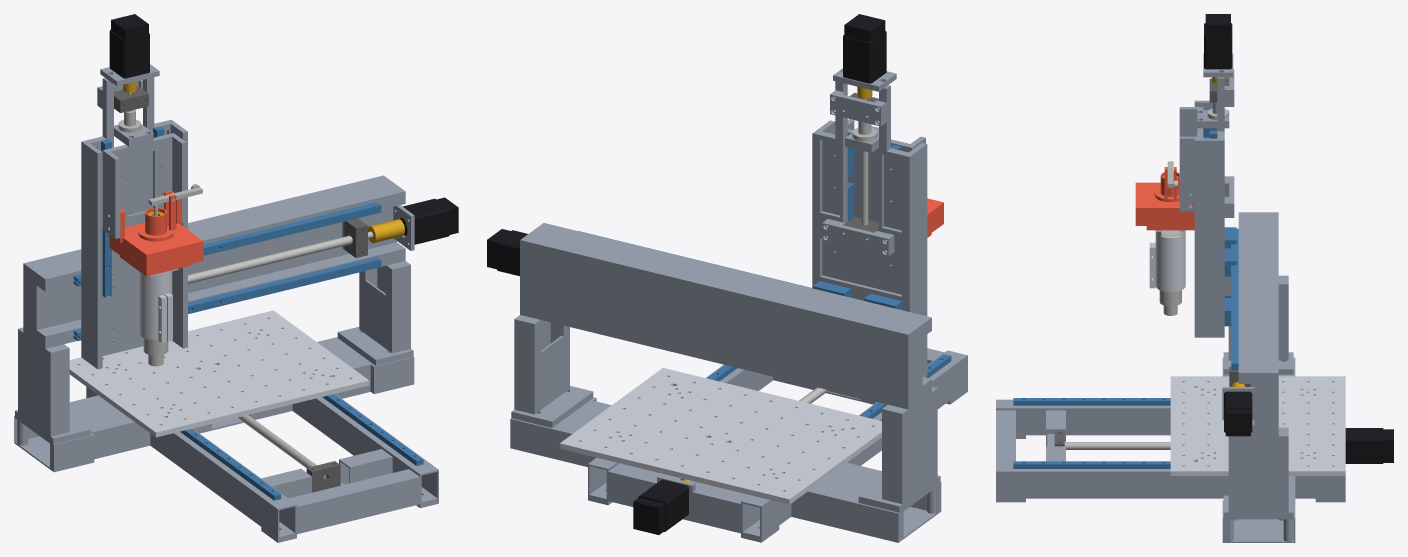
Rendered from standard_home.glb.
3 views of the same model, side by side, from view 1: azimuth 30°, elevation 25°; view 2: azimuth 150°, elevation 25°; view 3: azimuth 270°, elevation 25° (orthographic). The views are drawn at different scales.
Visible parts, largest first — view 1: table, beam, x_carriage, frame_cross_rear, z_slide, upright_R, frame_longeron_L, upright_L, frame_cross_front, frame_longeron_R, tooldock_master, x_rail_bot (+17 smaller); view 2: beam, table, x_carriage, frame_cross_rear, upright_R, upright_L, frame_cross_end, frame_longeron_L, z_motor, y_motor, frame_longeron_R, z_slide (+5 smaller); view 3: table, beam, frame_longeron_R, x_carriage, upright_R, frame_longeron_L, frame_cross_rear, head_mount, z_slide, tooldock_master, y_motor, z_motor (+9 smaller).
Part boxes in pixels (<box>): table: <box>69,310,369,437</box>; beam: <box>23,175,414,348</box>; x_carriage: <box>81,77,187,369</box>; frame_cross_rear: <box>14,337,414,472</box>; z_slide: <box>102,133,186,238</box>; upright_R: <box>337,261,413,365</box>; frame_longeron_L: <box>86,387,296,542</box>; upright_L: <box>15,327,91,444</box>; frame_cross_front: <box>288,469,419,534</box>; frame_longeron_R: <box>292,394,438,508</box>; tooldock_master: <box>109,191,203,274</box>; x_rail_bot: <box>73,257,381,340</box>; beam: <box>520,223,931,409</box>; table: <box>559,368,881,504</box>; x_carriage: <box>812,81,927,377</box>; frame_cross_rear: <box>510,397,941,542</box>; upright_R: <box>511,315,593,427</box>; upright_L: <box>858,386,940,512</box>; frame_cross_end: <box>608,463,749,533</box>; frame_longeron_L: <box>741,350,967,542</box>; z_motor: <box>843,14,886,83</box>; y_motor: <box>633,479,688,534</box>; frame_longeron_R: <box>588,364,773,505</box>; z_slide: <box>847,119,925,222</box>; table: <box>1170,376,1345,475</box>; beam: <box>1222,212,1278,436</box>; frame_longeron_R: <box>996,463,1345,502</box>; x_carriage: <box>1194,77,1224,337</box>; upright_R: <box>1223,427,1293,517</box>; frame_longeron_L: <box>996,399,1170,438</box>; frame_cross_rear: <box>1222,357,1295,542</box>; head_mount: <box>1149,230,1185,292</box>; z_slide: <box>1179,107,1203,211</box>; tooldock_master: <box>1135,182,1194,225</box>; y_motor: <box>1345,428,1393,463</box>; z_motor: <box>1204,14,1232,69</box>.
Bounding box in the file's own units: 857 × 883 × 797.
